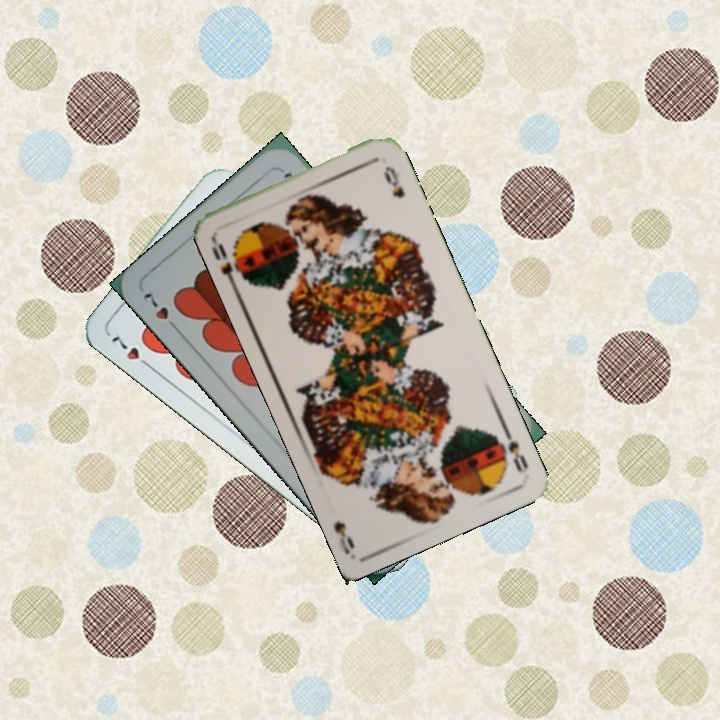H7: (107, 330, 156, 373), (139, 289, 183, 335)
SO: (206, 231, 249, 289), (498, 421, 531, 475)
